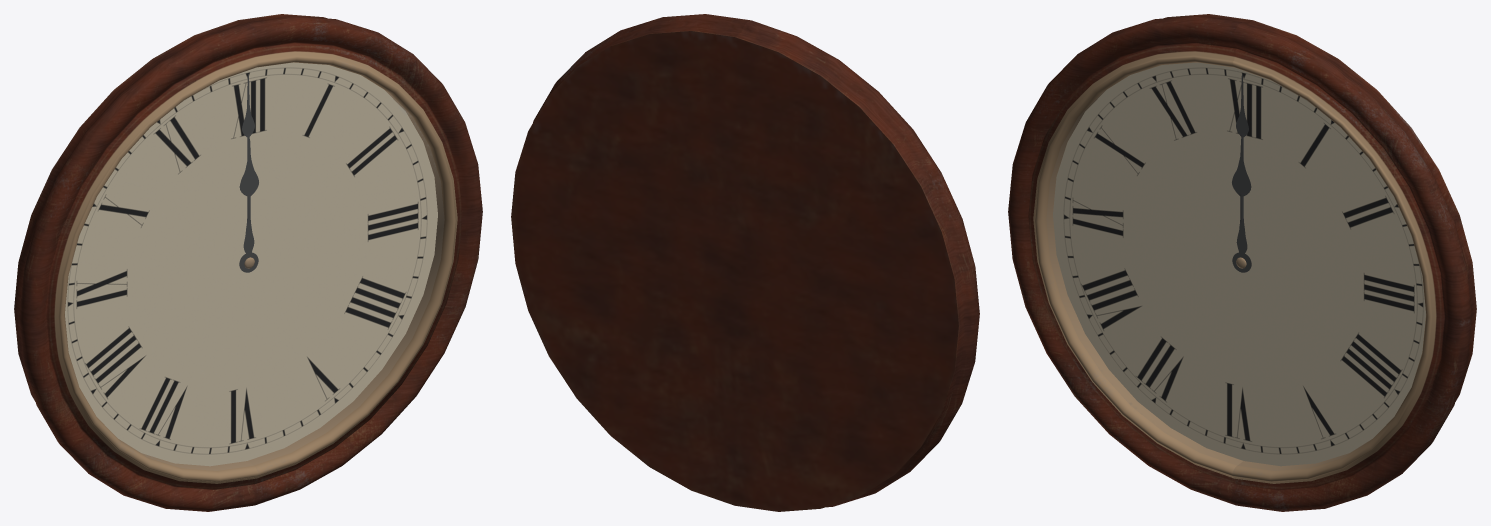
File: clock.glb
The picture shows the model from 3 angles, left to right: view 1: azimuth 30°, elevation 25°; view 2: azimuth 150°, elevation 25°; view 3: azimuth 330°, elevation 25°; orthographic projection.
Size of the model in its own units: 0.4 by 0.4 by 0.0309.
1 material, 1 textured.
